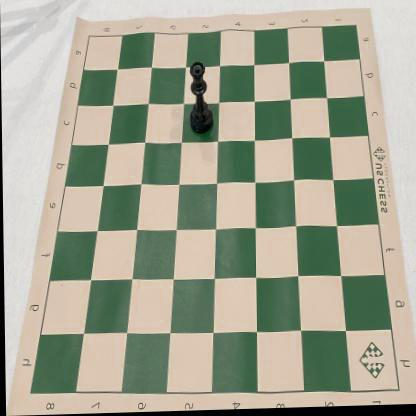black-queen: (188, 62, 214, 138)
